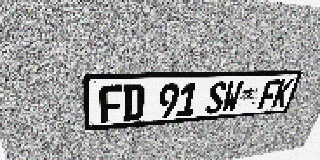1: (176, 82, 199, 117)
9: (158, 83, 181, 118)
D: (123, 84, 145, 121)
F: (100, 85, 123, 123), (257, 80, 281, 109)
K: (271, 79, 294, 108)
S: (205, 81, 228, 114)
W: (220, 81, 244, 113)
